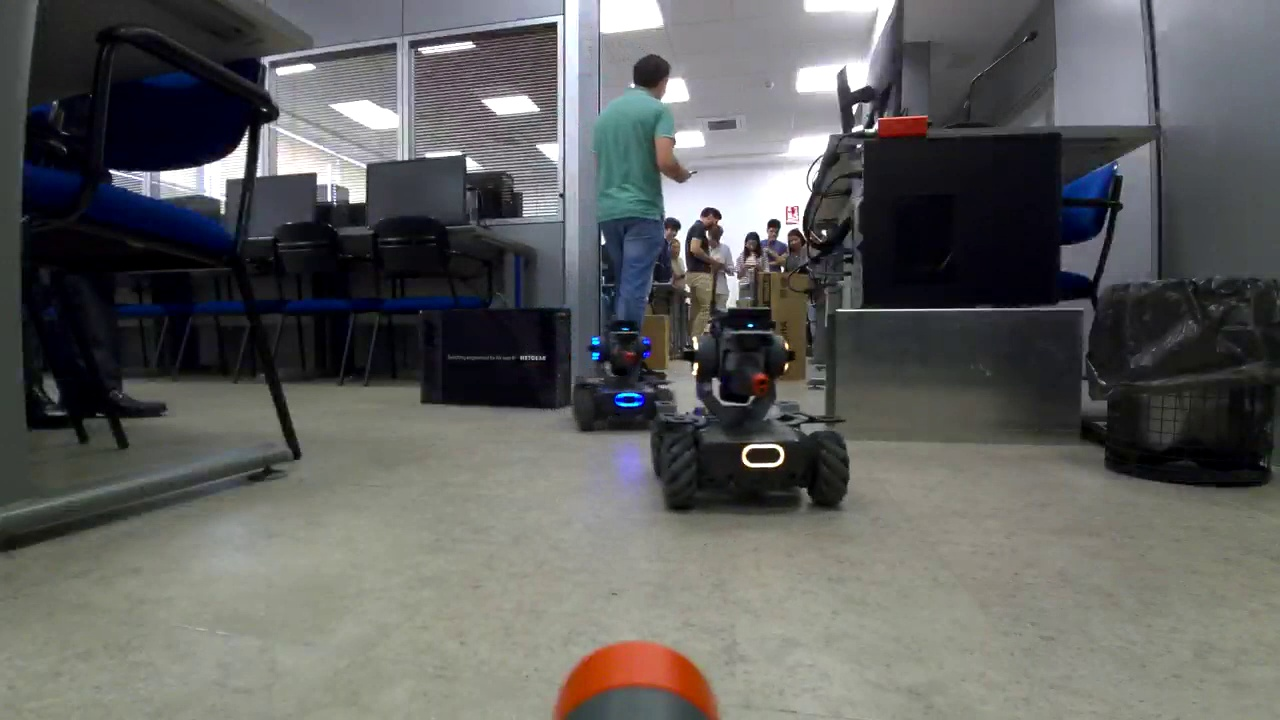robot: (654, 316, 847, 513), (574, 330, 671, 426)
